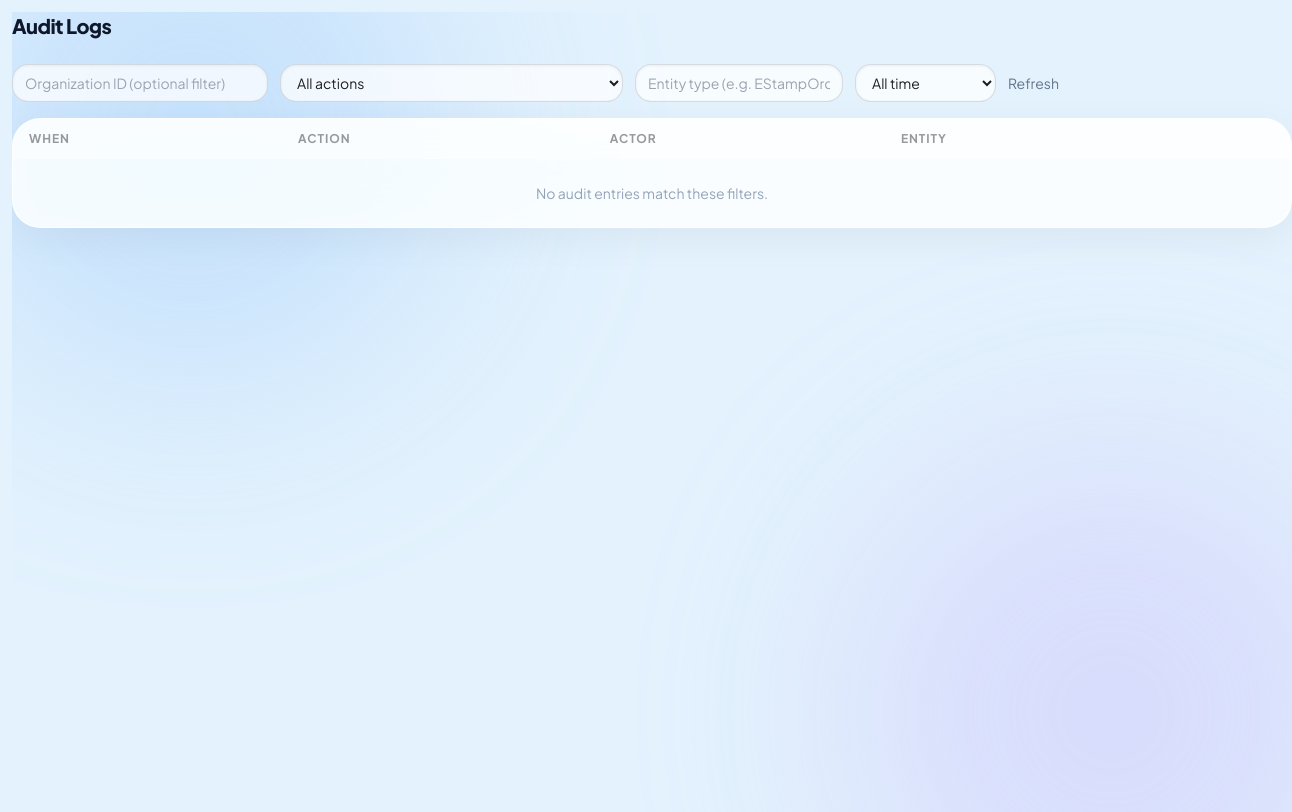
Scenario: AuditLogsPage - filters sent to the real backend contract › shows custom date inputs only for the custom preset and sends both bounds
Expected: the text "No audit entries match these filters." is shown, [13, 159, 1291, 227]
Select "Custom range" in the 2nd dropdown showing "All time" at point(926, 83), box [855, 64, 996, 102]
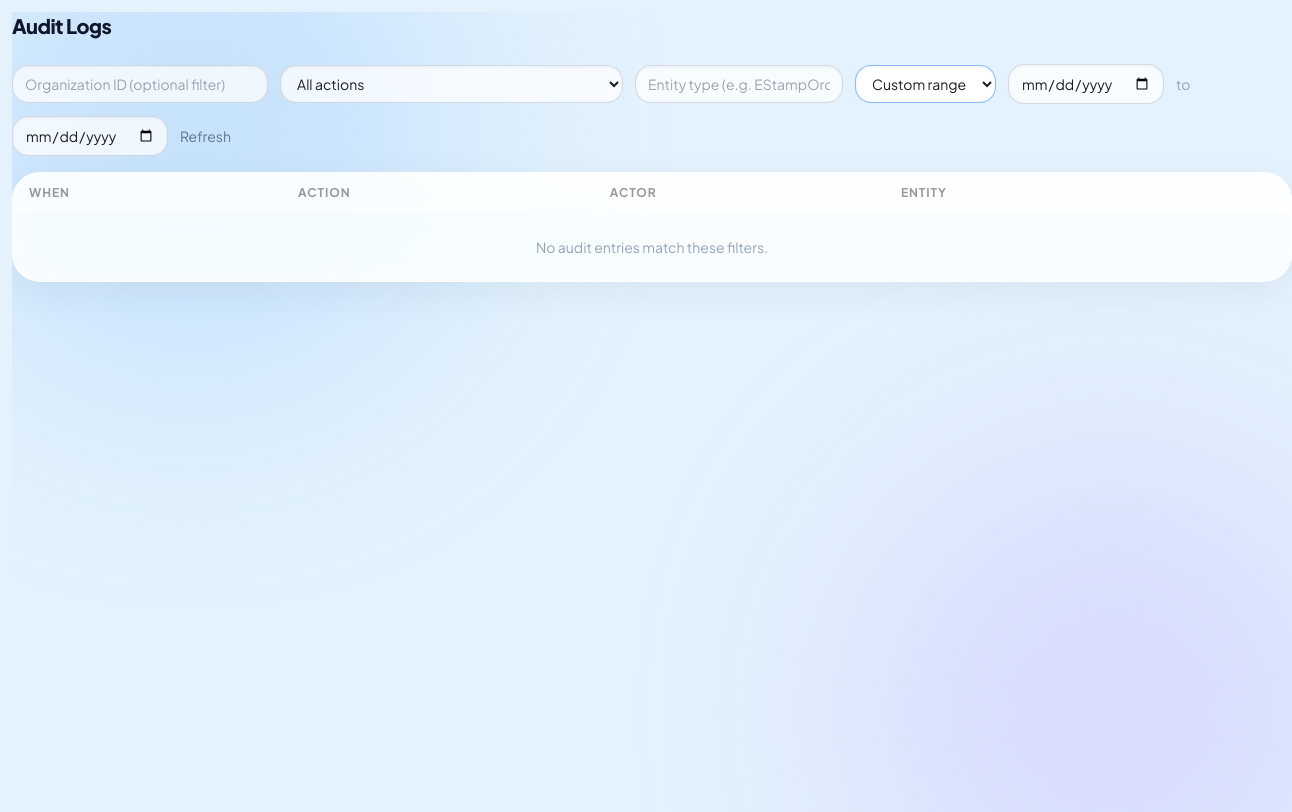
Expected: the number of date fields is 2, [1008, 64, 1164, 104]; [12, 116, 168, 156]
